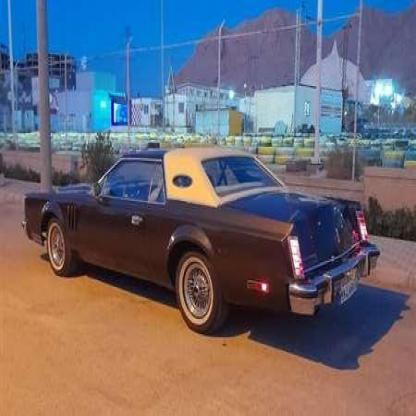Car: (16, 136, 377, 349)
